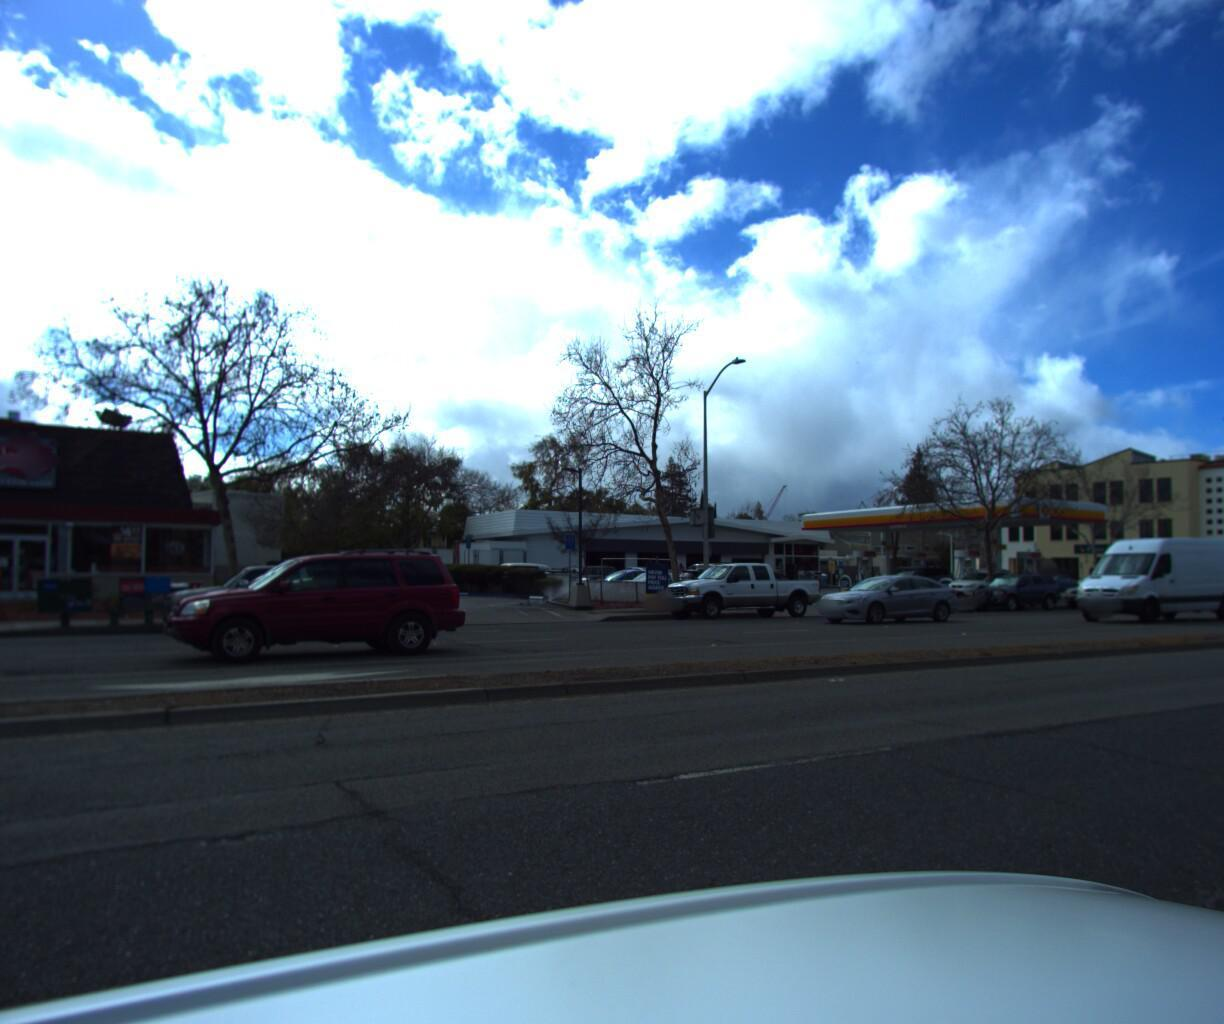car: (166, 547, 480, 673), (152, 567, 394, 647), (1062, 535, 1224, 633), (655, 564, 827, 629), (813, 577, 966, 633), (957, 573, 1063, 618), (1051, 574, 1148, 614), (587, 573, 682, 606), (866, 567, 957, 601), (492, 565, 578, 599), (935, 571, 1024, 604), (552, 555, 604, 581)
